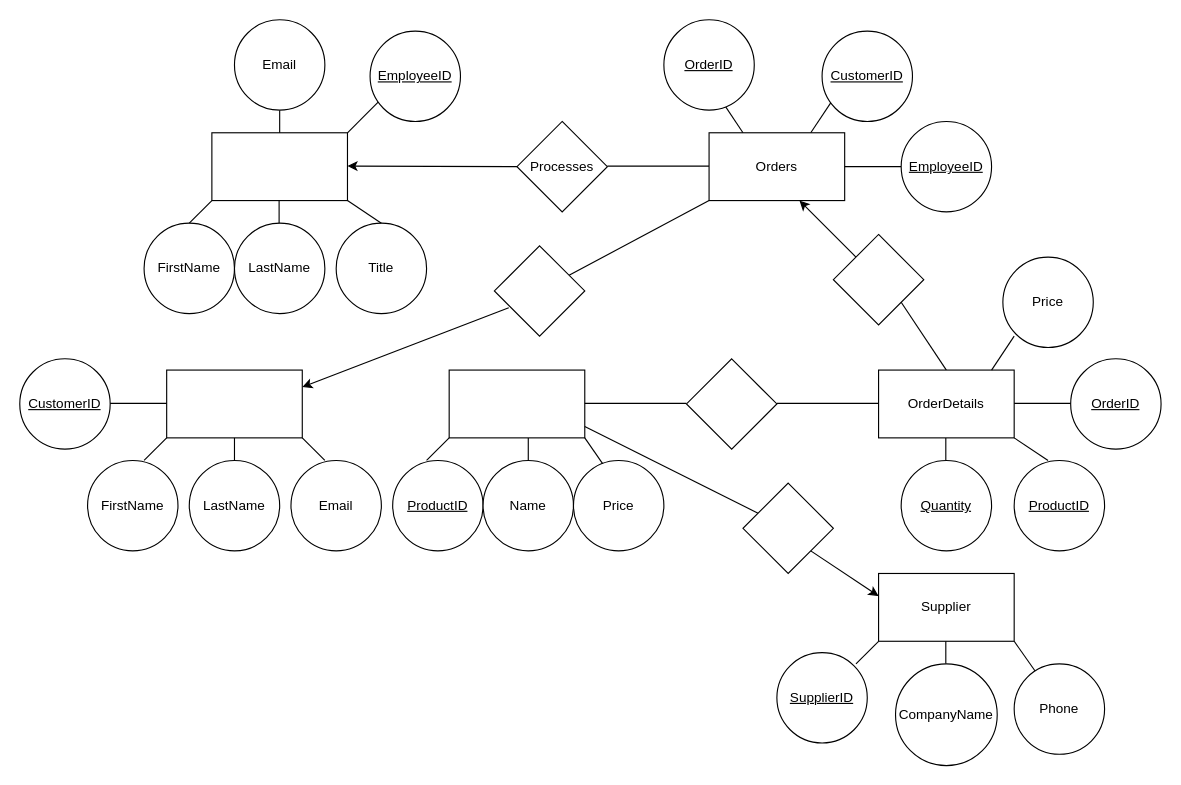
Image size: 1181x785. Some labels were removed from this diagram. Here are the shapes that lost their labels. From the top down, the centre of each, then its label:
At point (279, 166): "Employee".
At point (539, 290): "Places".
At point (878, 279): "Has".
At point (234, 403): "Customers".
At point (516, 403): "Products".
At point (731, 403): "Contains".
At point (787, 527): "Belongs To".
